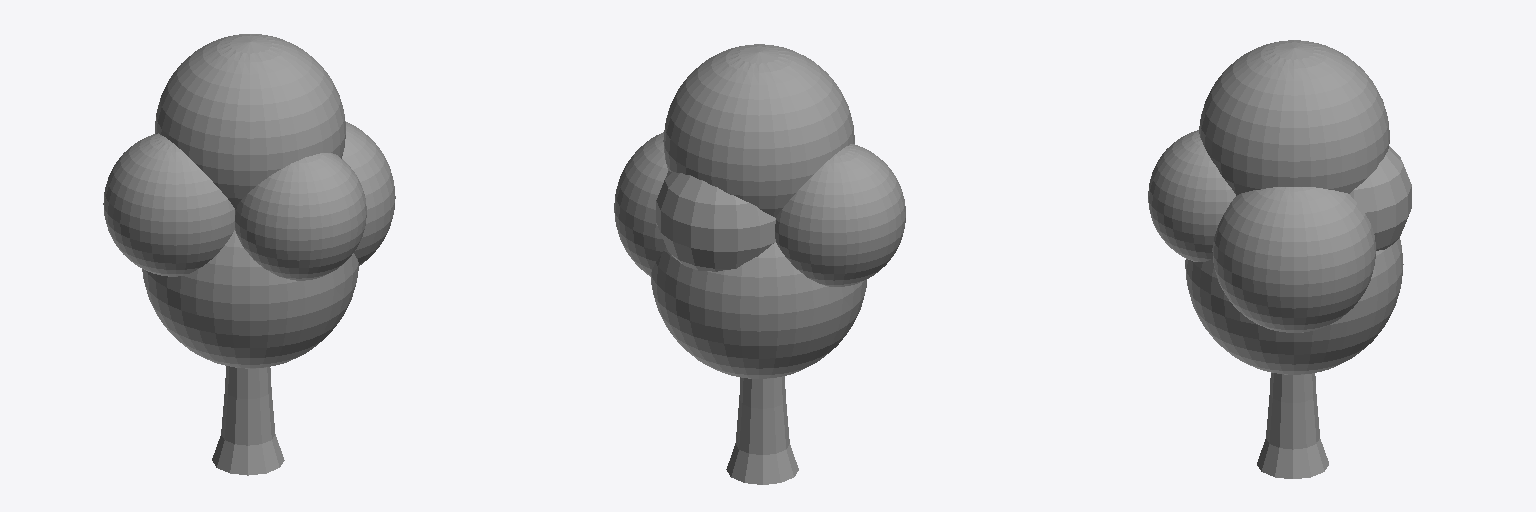
File: tree2.obj
3 views of the same model, side by side, from view 1: azimuth 30°, elevation 25°; view 2: azimuth 150°, elevation 25°; view 3: azimuth 270°, elevation 25° (orthographic).
Visible parts, largest first — view 1: Cartoon_tree_3; view 2: Cartoon_tree_3; view 3: Cartoon_tree_3.
Part boxes in pixels (bbox=[...]): Cartoon_tree_3: bbox=[103, 34, 395, 475]; Cartoon_tree_3: bbox=[614, 44, 905, 484]; Cartoon_tree_3: bbox=[1148, 40, 1411, 478].
Bounding box in the file's own units: 11.72 × 17.22 × 9.88.